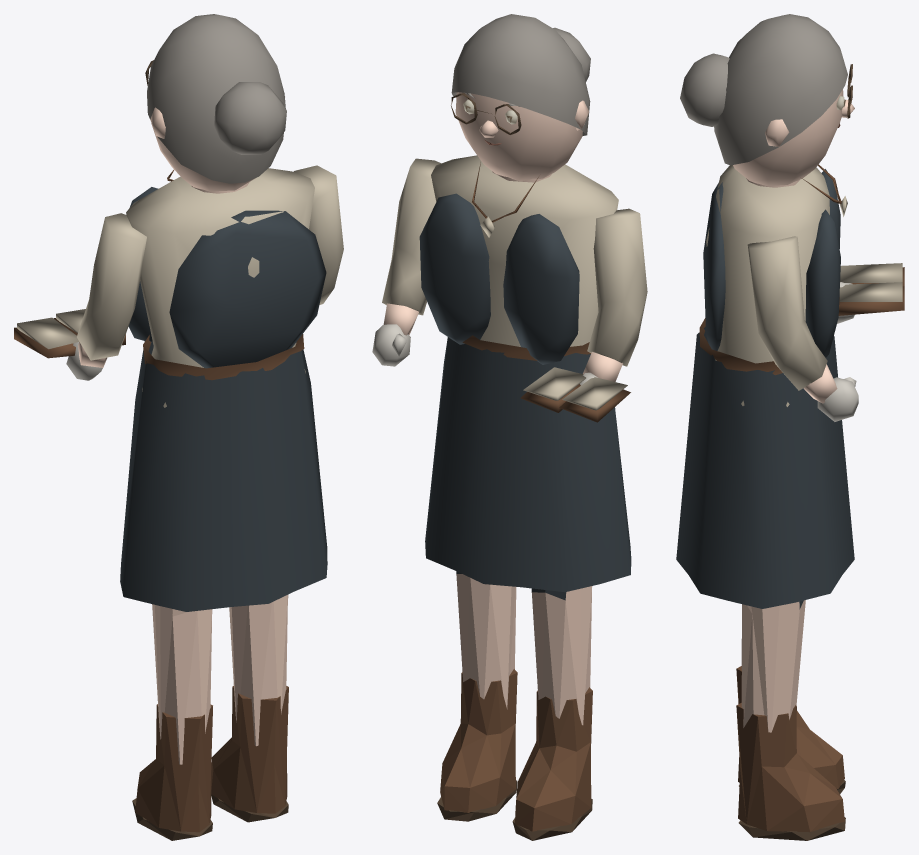
Rendered from SM_NPC_SAGE_MEDIA.glb.
The picture shows the model from 3 angles, left to right: view 1: azimuth 30°, elevation 25°; view 2: azimuth 150°, elevation 25°; view 3: azimuth 270°, elevation 25°; orthographic projection.
Parts seen in each view (by area): view 1: SM_NPC_SAGE_BODY, SM_NPC_SAGE_HEAD, SM_NPC_SAGE_ARM_L, SM_NPC_SAGE_ARM_R; view 2: SM_NPC_SAGE_BODY, SM_NPC_SAGE_HEAD, SM_NPC_SAGE_ARM_L, SM_NPC_SAGE_ARM_R; view 3: SM_NPC_SAGE_BODY, SM_NPC_SAGE_HEAD, SM_NPC_SAGE_ARM_R, SM_NPC_SAGE_ARM_L.
Part boxes in pixels (x1,y1,x2,y2): SM_NPC_SAGE_BODY: [120, 168, 327, 840]; SM_NPC_SAGE_HEAD: [145, 14, 286, 191]; SM_NPC_SAGE_ARM_L: [14, 213, 146, 380]; SM_NPC_SAGE_ARM_R: [294, 165, 343, 304]; SM_NPC_SAGE_BODY: [419, 155, 631, 840]; SM_NPC_SAGE_HEAD: [451, 14, 590, 181]; SM_NPC_SAGE_ARM_L: [520, 208, 647, 422]; SM_NPC_SAGE_ARM_R: [372, 158, 440, 366]; SM_NPC_SAGE_BODY: [676, 164, 854, 840]; SM_NPC_SAGE_HEAD: [680, 14, 854, 186]; SM_NPC_SAGE_ARM_R: [747, 236, 858, 421]; SM_NPC_SAGE_ARM_L: [837, 263, 904, 323].
Size of the model in its own units: 0.5956 by 1.71 by 0.4485.
